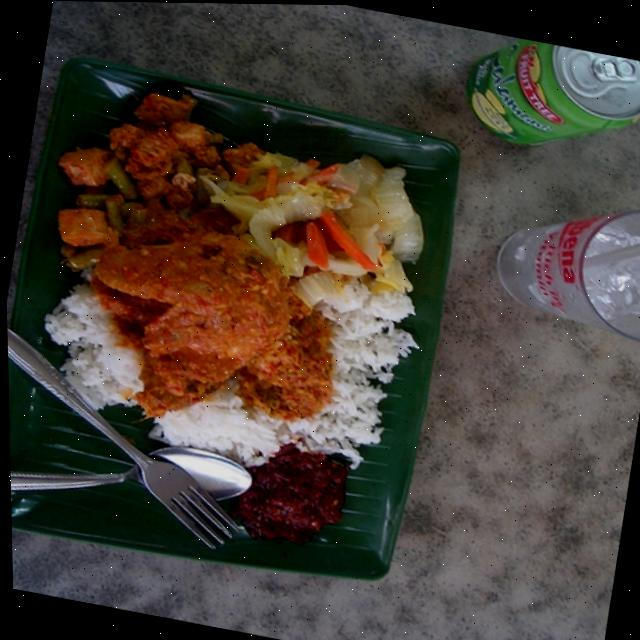米饭主食: (1, 34, 513, 620)
